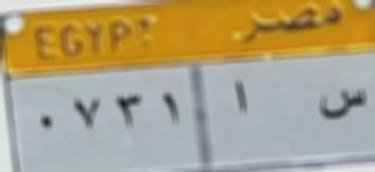0: (36, 109, 56, 140)
1: (159, 88, 184, 130)
3: (113, 91, 143, 138)
7: (70, 96, 104, 130)
alif: (229, 78, 254, 123)
seen: (314, 80, 368, 126)
